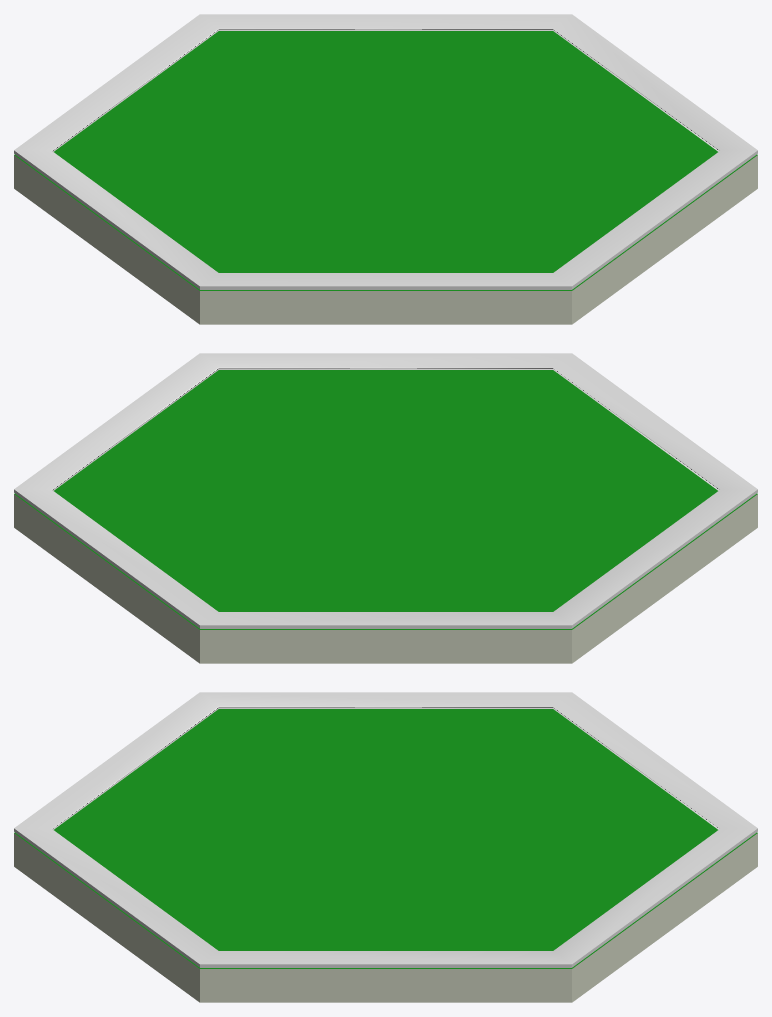
File: HexTileWithHighlightAndMats.fbx
3 renders of one model, top to bottom at view 1: azimuth 30°, elevation 25°; view 2: azimuth 150°, elevation 25°; view 3: azimuth 270°, elevation 25°, orthographic.
Visible parts, largest first — view 1: HexTile, HexTileHighlight; view 2: HexTile, HexTileHighlight; view 3: HexTile, HexTileHighlight.
Part boxes in pixels (x1=…): HexTile: x1=14, y1=31, x2=757, y2=324; HexTileHighlight: x1=14, y1=14, x2=757, y2=289; HexTile: x1=14, y1=370, x2=757, y2=663; HexTileHighlight: x1=14, y1=353, x2=757, y2=628; HexTile: x1=14, y1=709, x2=757, y2=1002; HexTileHighlight: x1=14, y1=692, x2=757, y2=967.
Bounding box in the file's own units: 173 × 11.37 × 200.
